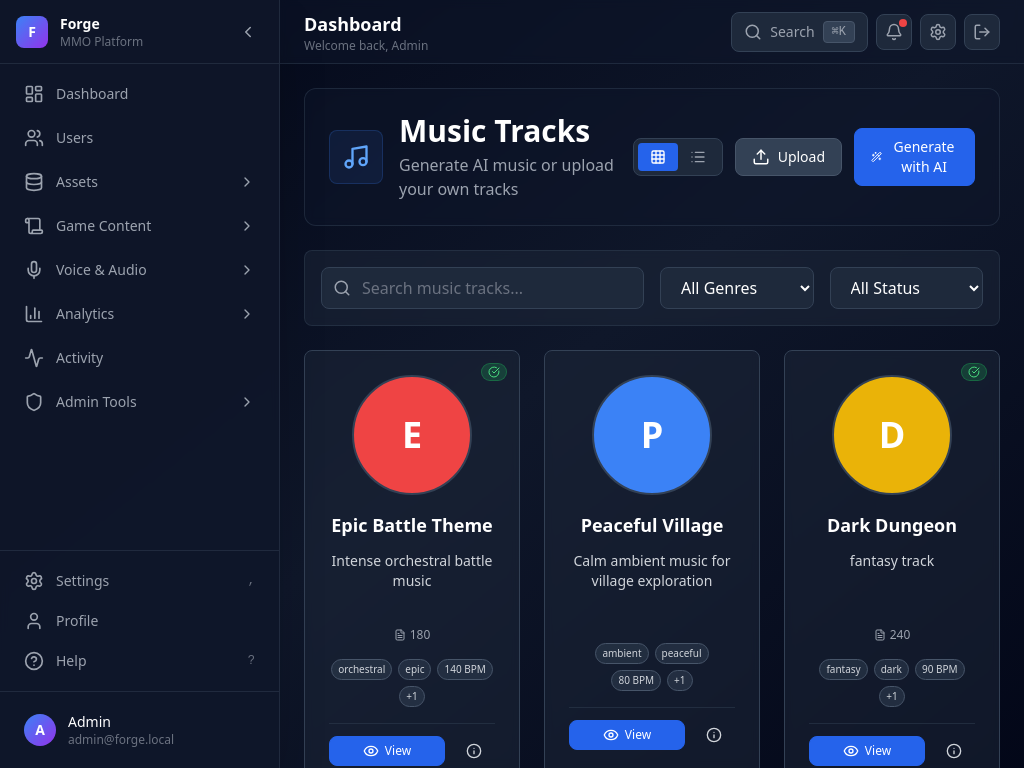
Scenario: MusicPage - Integration Tests › AI Music Generation › enables submit button when required fields are filled
Expected: the heading "Epic Battle Theme" is shown, [329,511,495,539]
Click the button "Generate with AI" at (914, 157), box [854,128,975,186]
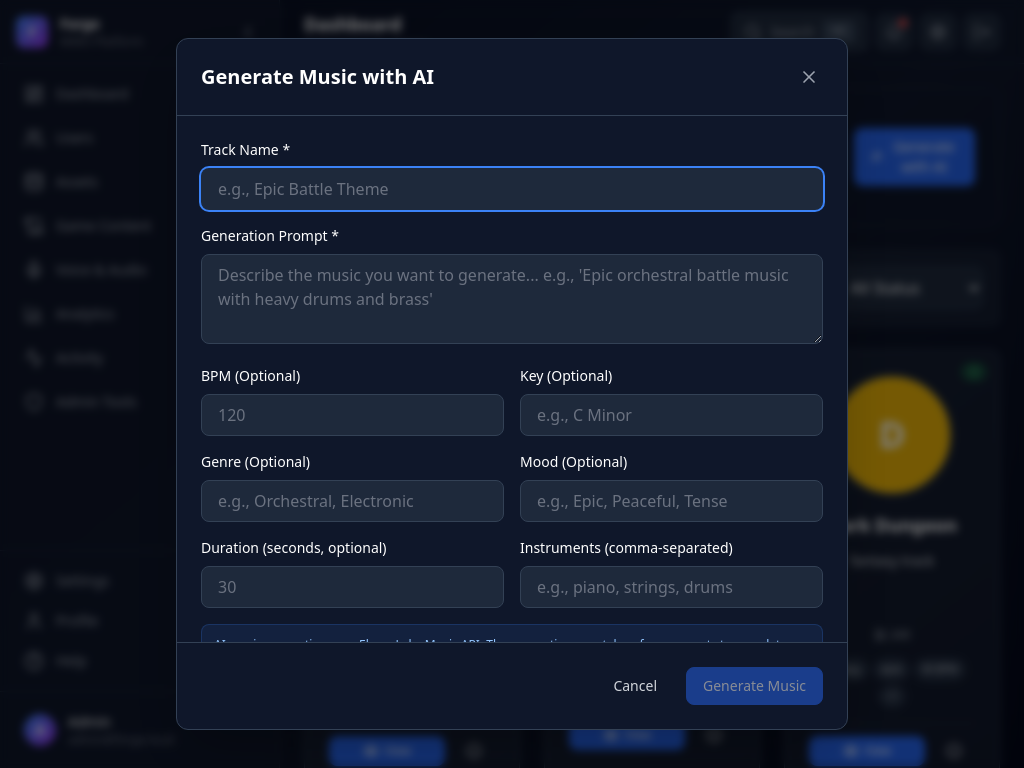
Now the button "Generate Music" is disabled, box [686,667,823,705]
Fill required fields
Type "Victory Theme" into the field with placeholder "e.g., Epic Battle Theme" at (512, 189), box [201,168,823,210]
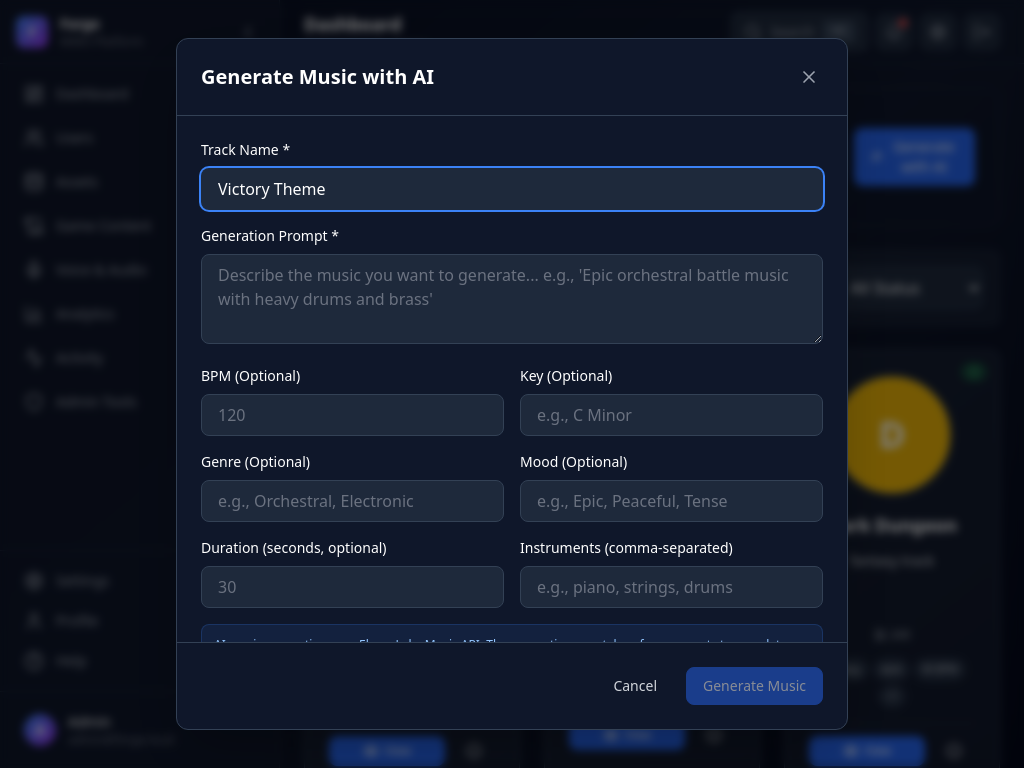
Type "Triumphant victory music" into the text box with placeholder "Describe the music you want to generate" at (512, 299), box [201,254,823,344]
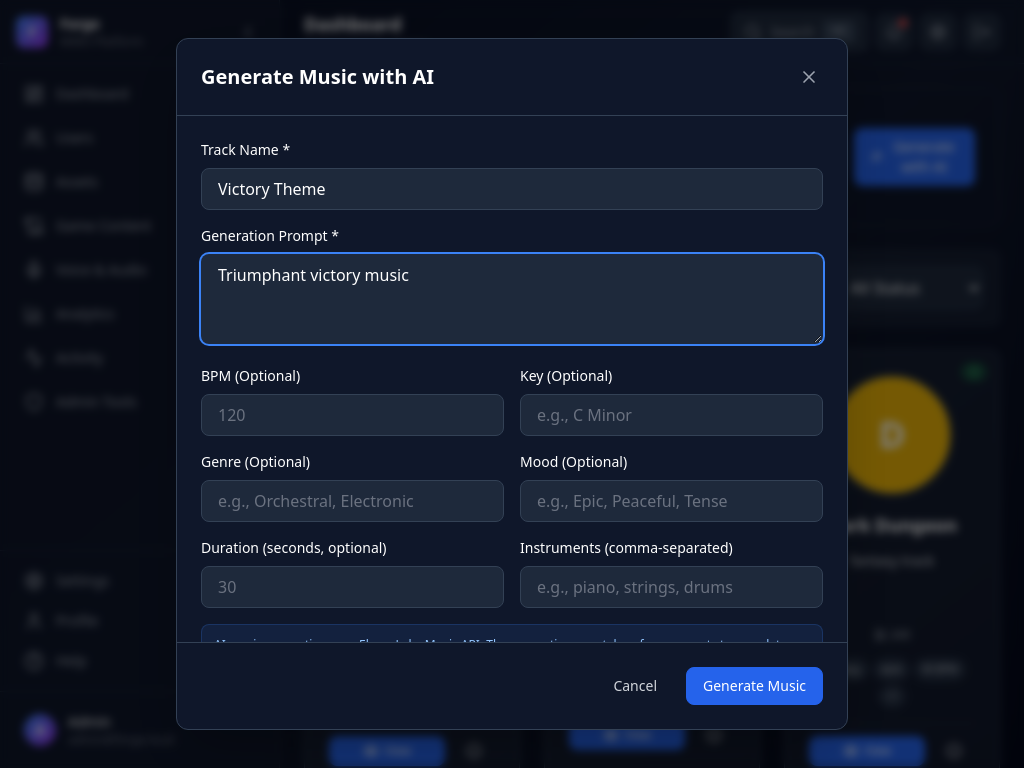
Now the button "Generate Music" is enabled, box [686,667,823,705]
